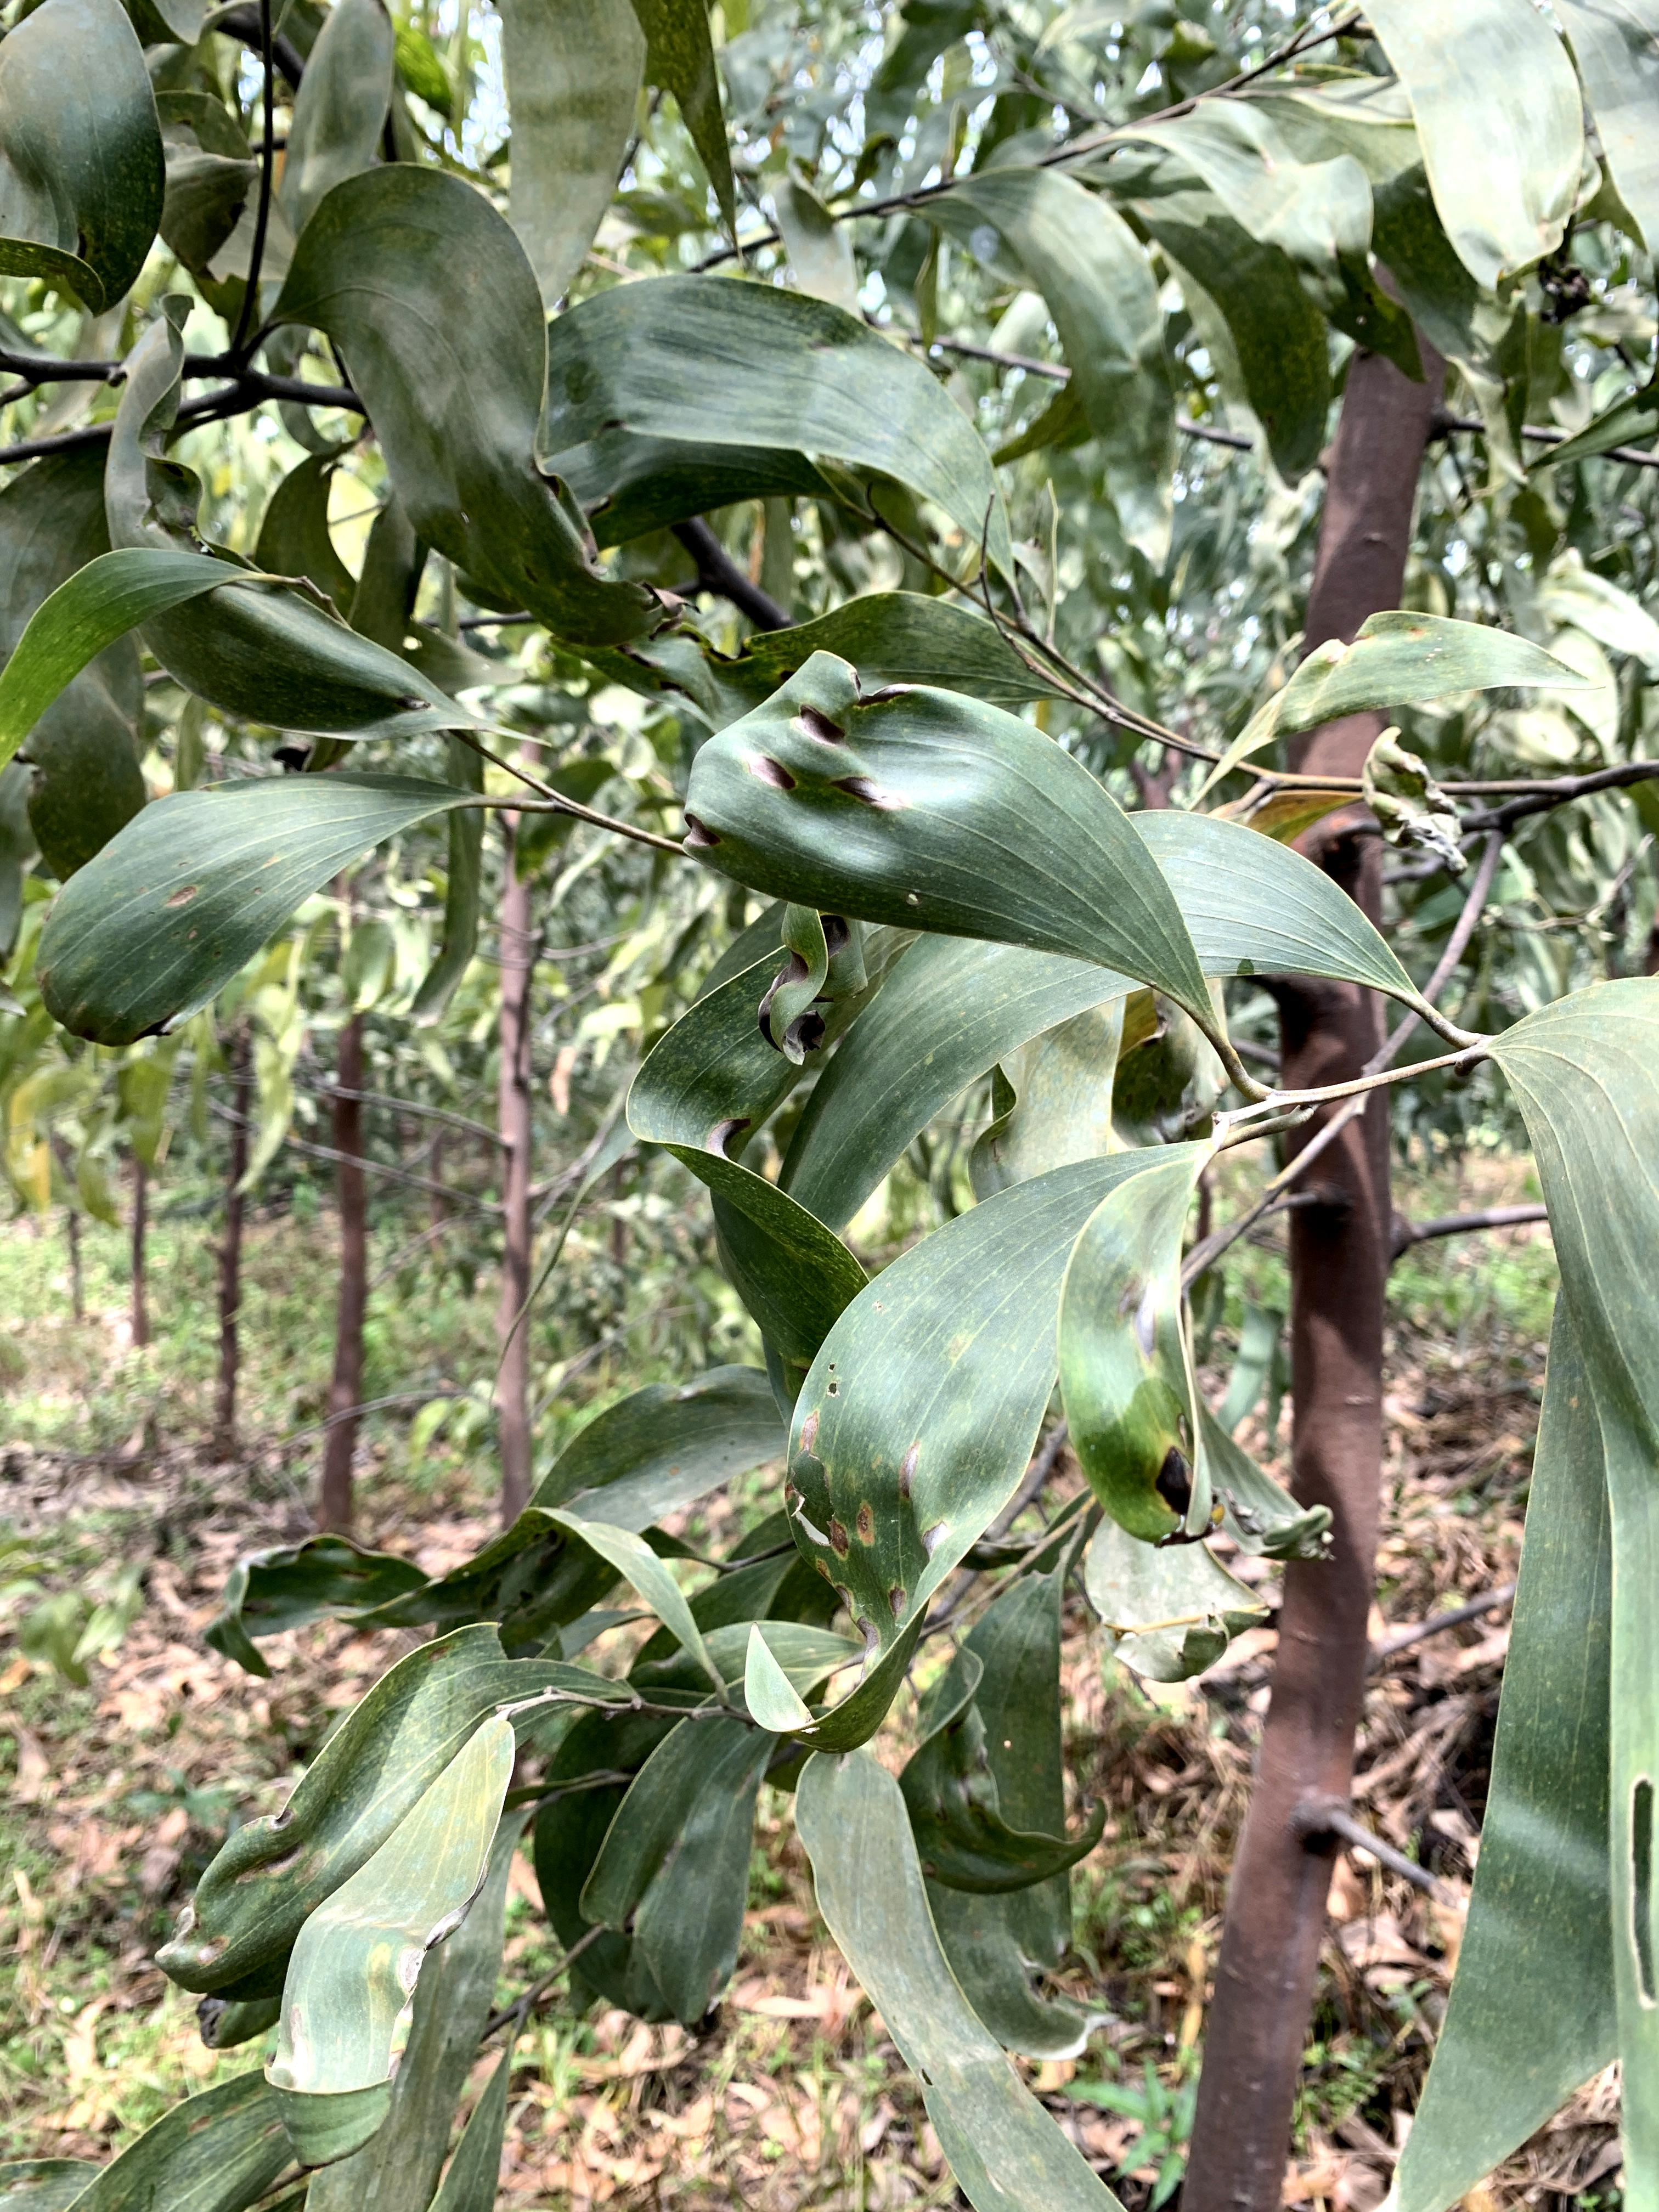Pasalora: (295, 207, 680, 681), (671, 658, 1206, 970), (784, 1292, 950, 1724), (333, 1717, 481, 2146), (145, 1679, 322, 2034), (1091, 1134, 1225, 1566), (19, 876, 267, 1040), (1364, 730, 1473, 867)
